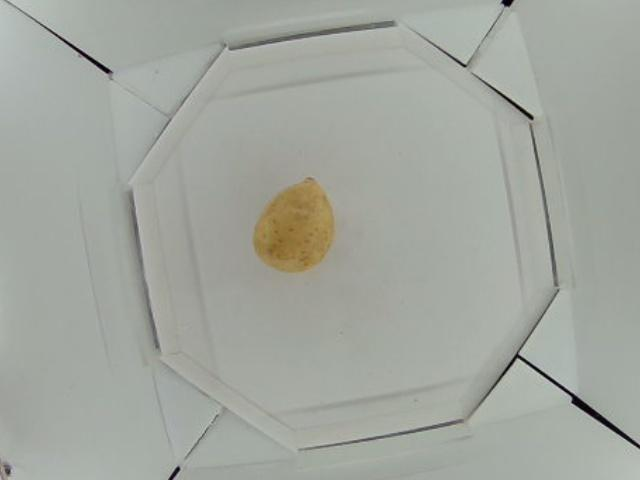Potato: (251, 174, 332, 272)
